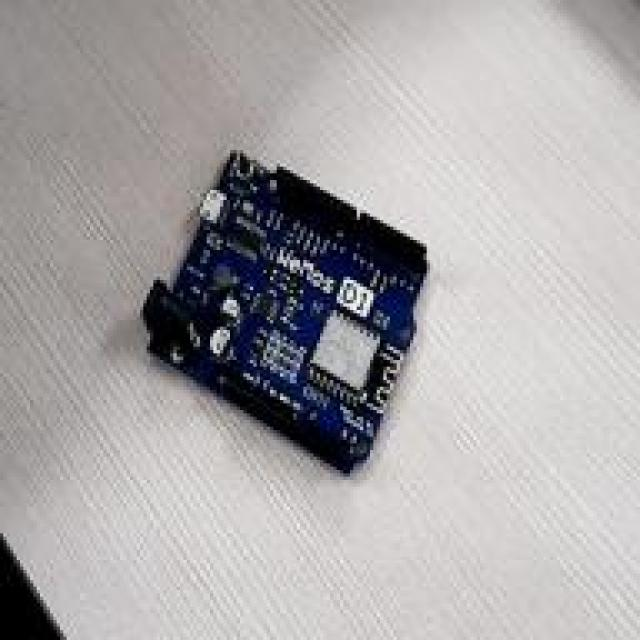Wemos: (144, 154, 424, 471)
